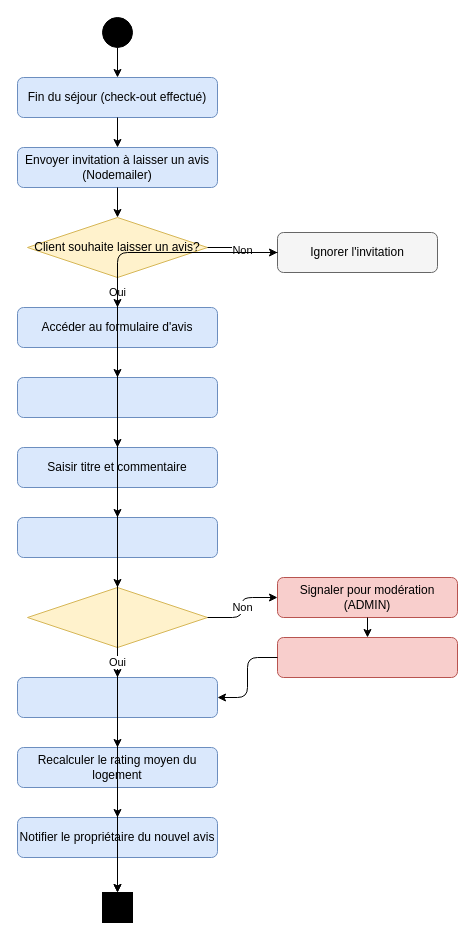
This 475x940 diagram has some shape labels left out. Here are the shapes that lost their labels. From the top down, the box of each, then its label:
(16, 376, 218, 418): Attribuer une note (1 à 5 étoiles)
(16, 516, 218, 558): Soumettre l'avis
(26, 586, 208, 648): Contenu approprié?
(276, 636, 458, 678): ADMIN examine et décide
(16, 676, 218, 718): Publier l'avis automatiquement
